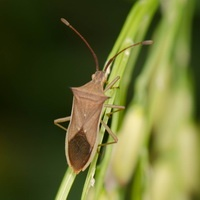insect: (54, 18, 152, 173)
